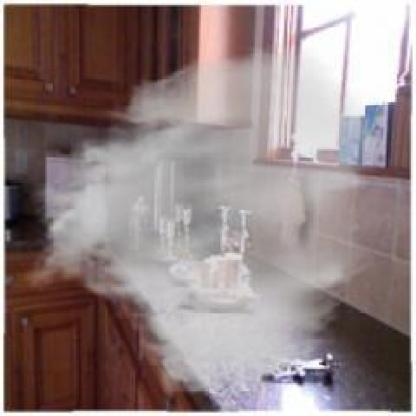Smoke: (23, 40, 383, 400)
